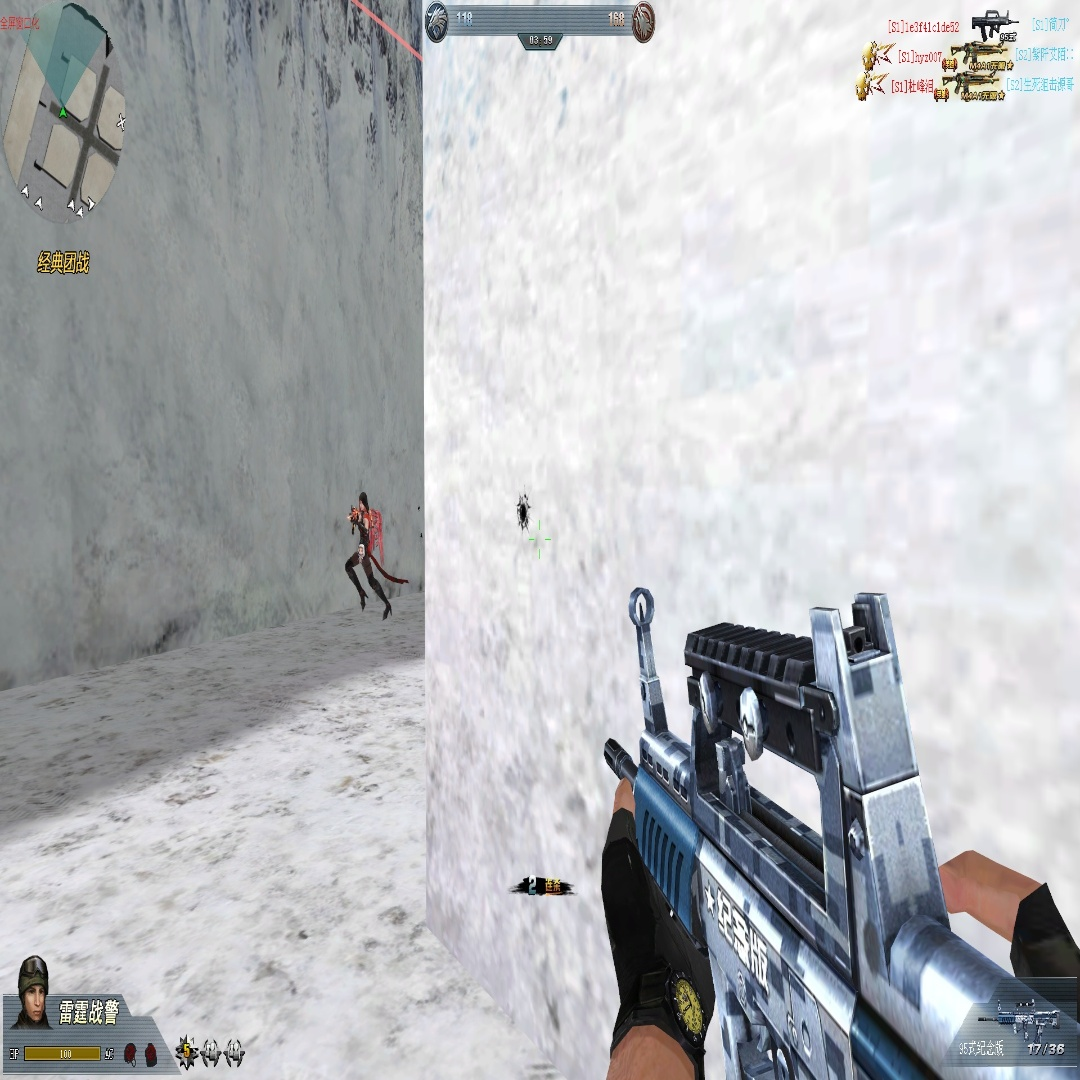head: (358, 493, 368, 513)
t: (345, 492, 372, 616)
